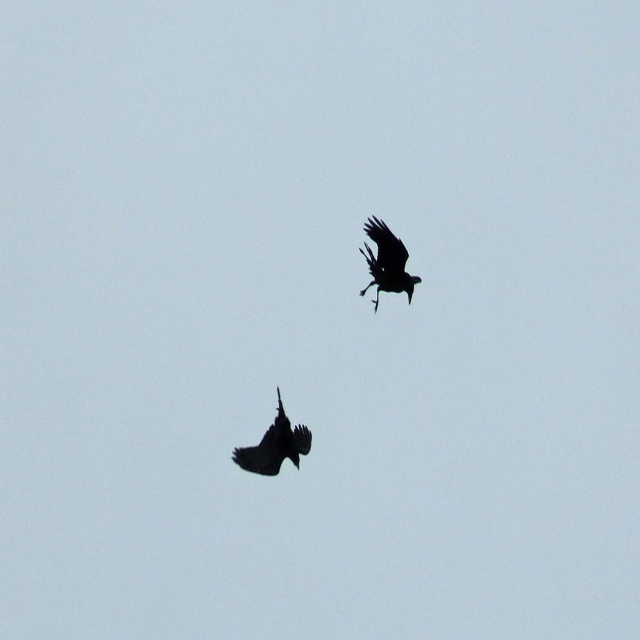Eagle: (229, 377, 316, 479), (357, 210, 422, 316)
